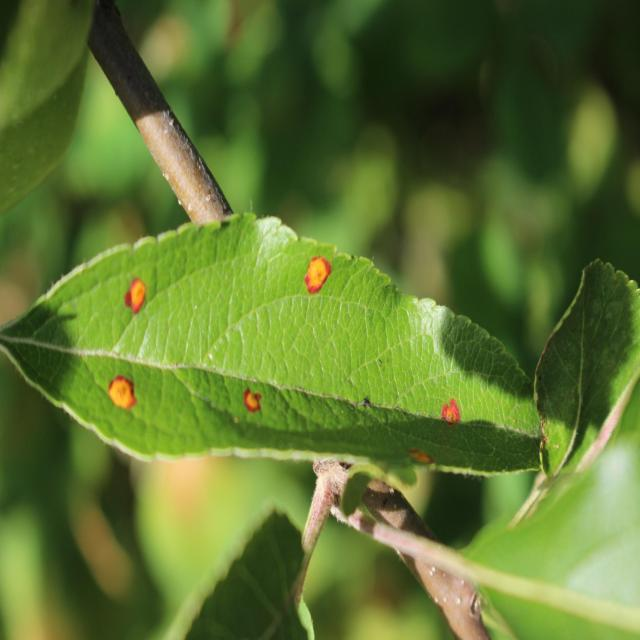rust: (0, 212, 545, 478)
